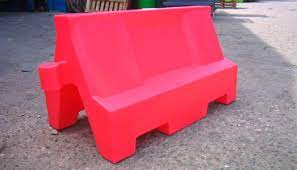barrier: (41, 4, 241, 164)
